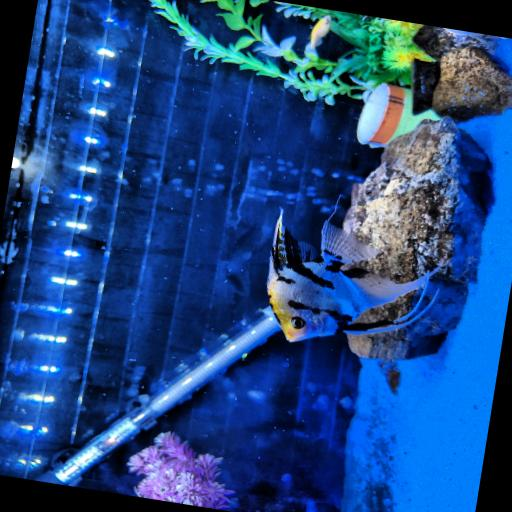Fish: (267, 210, 436, 341), (307, 15, 331, 49)
